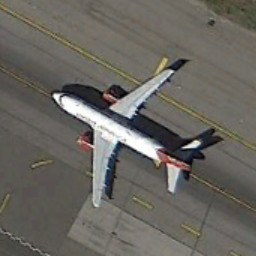Airplane: (44, 60, 226, 214)
